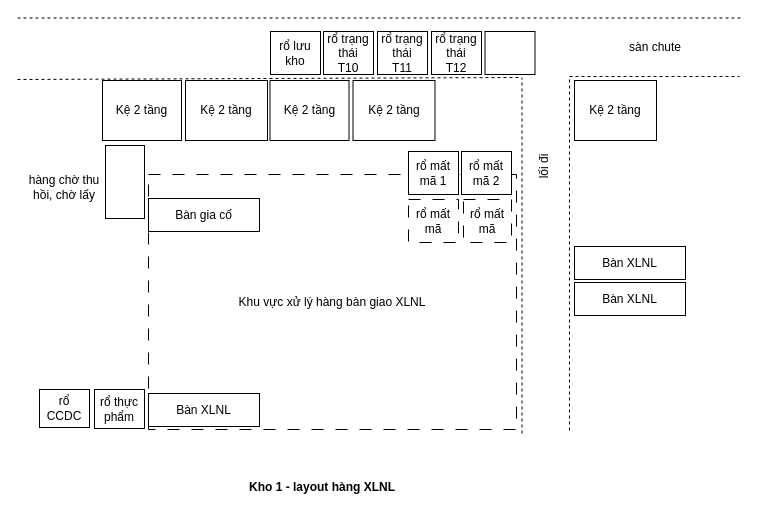
This 760x518 diagram has some shape labels left out. The shapes that lost their labels are listed below. From the top down, each one's centre as x and y in pixels, then its label:
At pixel 509 52: "rổ 2 mã".
At pixel 124 181: "Kệ 4 tầng N1-4".
